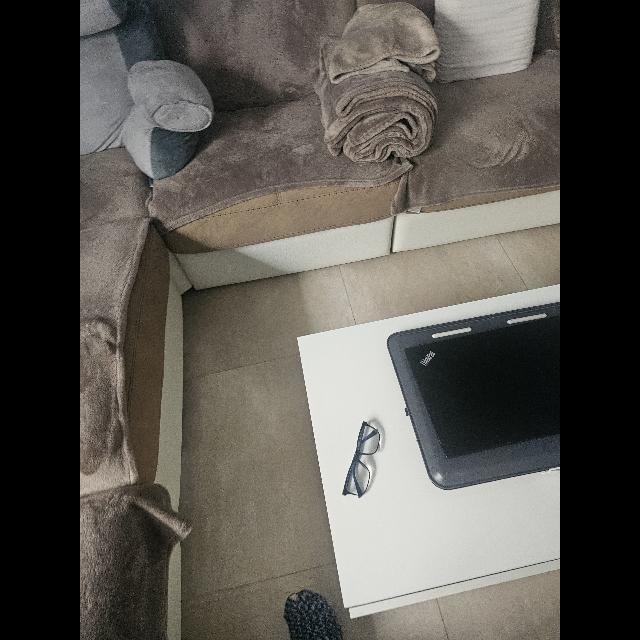glasses: (342, 422, 380, 498)
